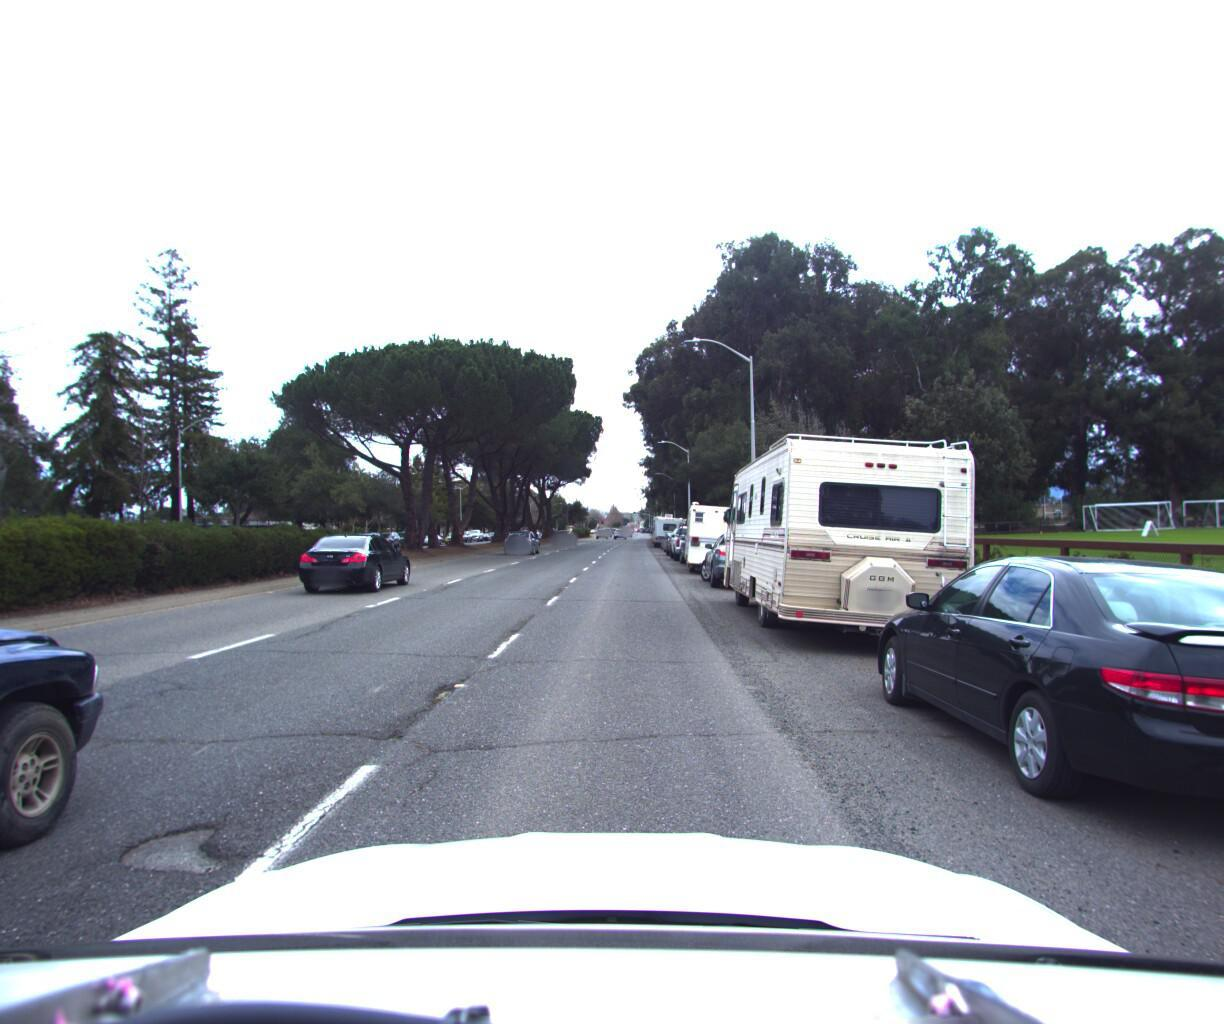car: (0, 0, 180, 1024), (844, 542, 1224, 907), (298, 532, 421, 598), (697, 524, 786, 592), (675, 520, 734, 564), (665, 516, 715, 557), (661, 515, 703, 553), (502, 526, 540, 552), (554, 525, 578, 541)
other_vehicle: (715, 421, 996, 666), (681, 494, 762, 573), (647, 508, 688, 544)
